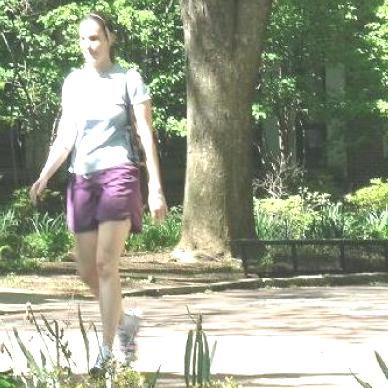ped: (32, 13, 169, 377)
